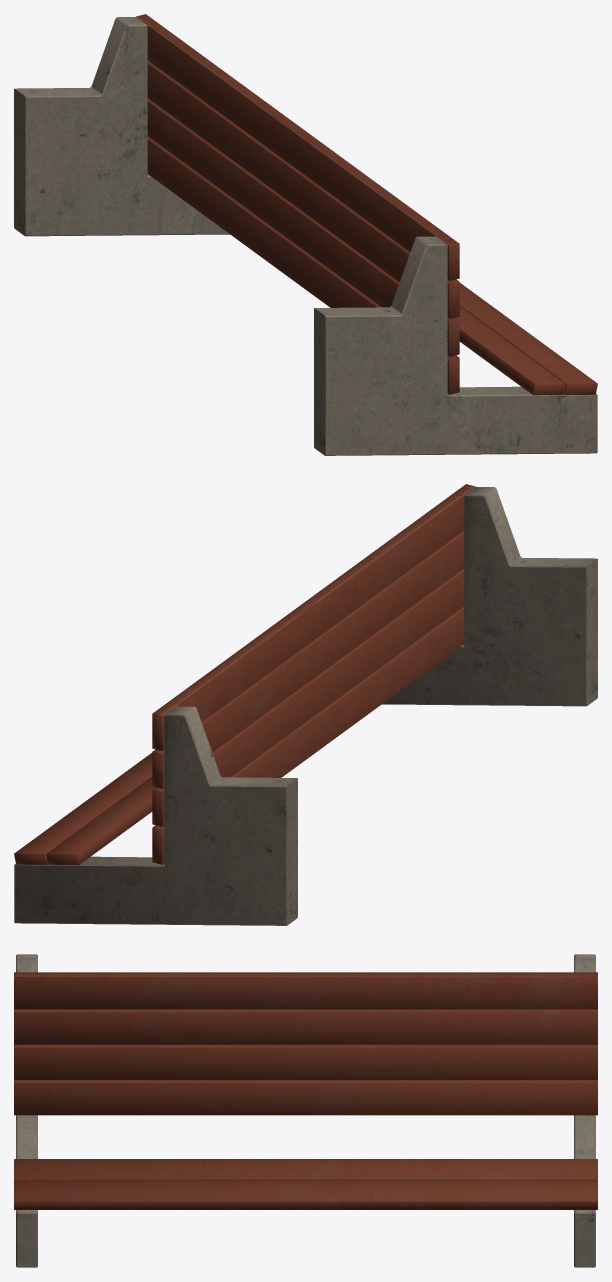
Rendered from cP_Bench17.dae.
3 renders of one model, top to bottom at view 1: azimuth 30°, elevation 25°; view 2: azimuth 150°, elevation 25°; view 3: azimuth 270°, elevation 25°, orthographic. The views are drawn at different scales.
Visible parts, largest first — view 1: cP_Bench17.001; view 2: cP_Bench17.001; view 3: cP_Bench17.001.
Boxes of the visible parts, left/top/right/bottom form: cP_Bench17.001: left=14, top=14, right=597, bottom=455; cP_Bench17.001: left=14, top=484, right=597, bottom=925; cP_Bench17.001: left=14, top=954, right=597, bottom=1267.
Size of the model in its own units: 1.05 by 2.09 by 0.921.
